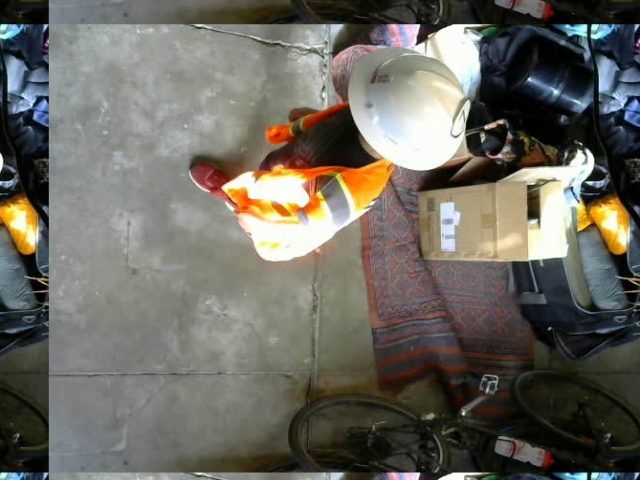one: (450, 98, 470, 137)
